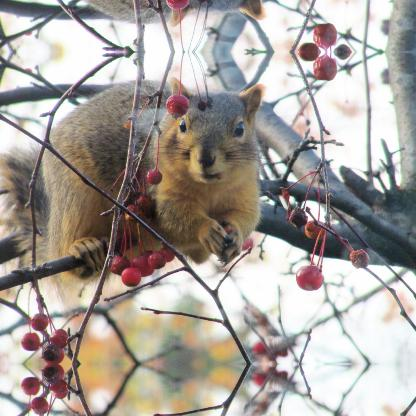Squirrel: (0, 76, 277, 319)
